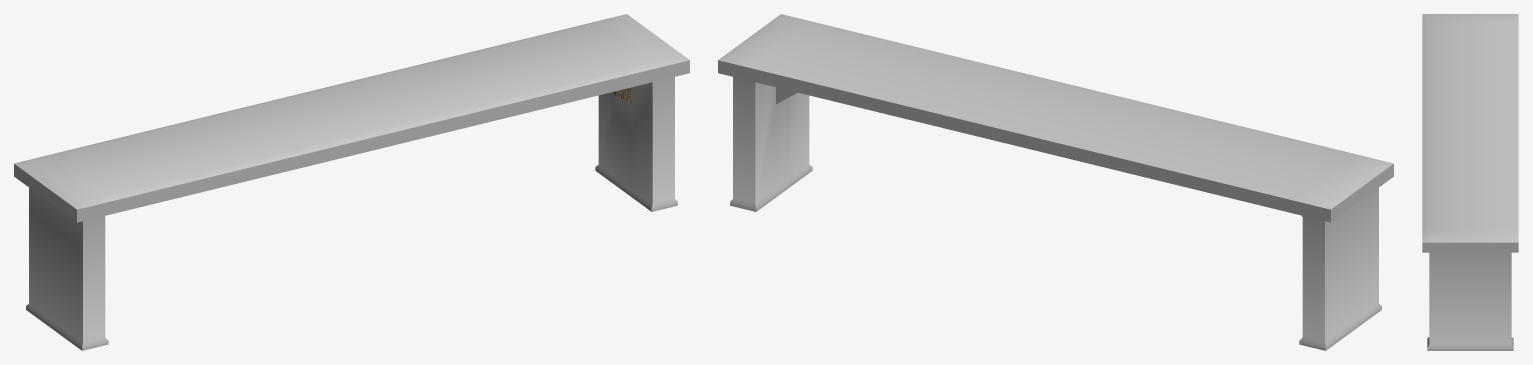
The model's file is bench_middle_fbx.FBX.
The picture shows the model from 3 angles, left to right: view 1: azimuth 30°, elevation 25°; view 2: azimuth 150°, elevation 25°; view 3: azimuth 270°, elevation 25°; orthographic projection. The views are drawn at different scales.
Parts seen in each view (by area): view 1: bench_middle; view 2: bench_middle; view 3: bench_middle.
Boxes of the visible parts, x1,y1,x2,y2 form: bench_middle: (14,14,689,350); bench_middle: (718,14,1393,350); bench_middle: (1422,14,1518,350).
Size of the model in its own units: 277 by 49.34 by 64.06.
